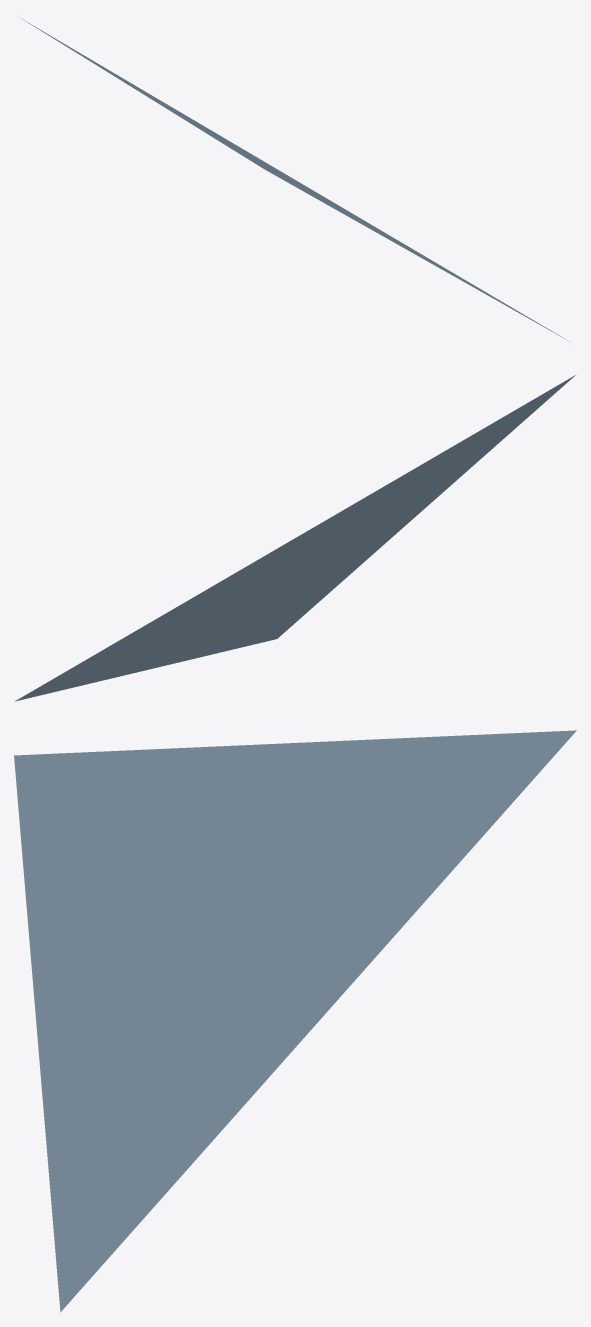
3 views of the same model, one above another, from view 1: azimuth 30°, elevation 25°; view 2: azimuth 150°, elevation 25°; view 3: azimuth 270°, elevation 25° (orthographic). The views are drawn at different scales.
Bounding box in the file's own units: 184 × 133 × 192.
